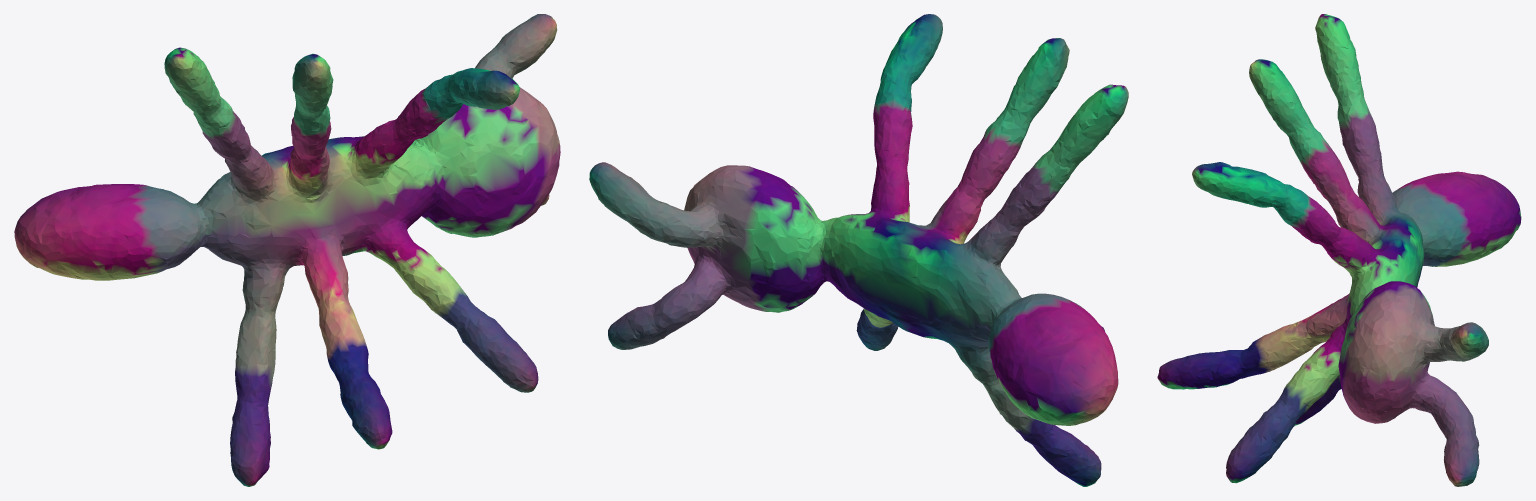
Rendered from ant-4.off.obj.
3 renders of one model, left to right at view 1: azimuth 30°, elevation 25°; view 2: azimuth 150°, elevation 25°; view 3: azimuth 270°, elevation 25°, orthographic. The views are drawn at different scales.
Size of the model in its own units: 1.6 by 1.24 by 1.06.
